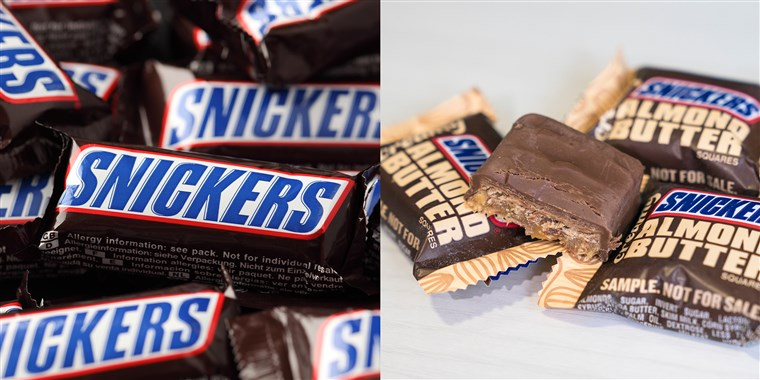snickers: (62, 149, 339, 234), (0, 294, 213, 378), (0, 296, 213, 378), (0, 296, 209, 378), (168, 83, 379, 142), (168, 87, 379, 142), (0, 3, 68, 93), (0, 3, 65, 93), (641, 78, 758, 115), (659, 189, 759, 221), (445, 139, 489, 169)
